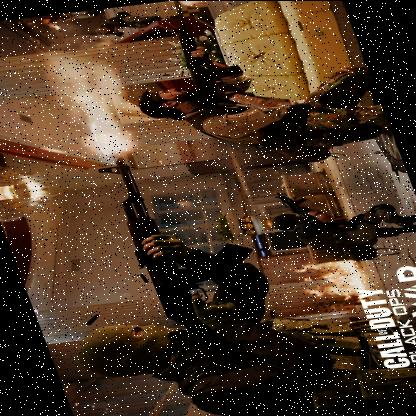rifle: (96, 146, 276, 368), (156, 0, 251, 110)
